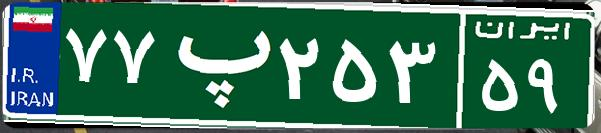2: (273, 28, 330, 110)
3: (385, 28, 445, 110)
5: (330, 28, 385, 110), (475, 38, 525, 113)
7: (57, 26, 110, 107), (110, 28, 158, 105)
9: (525, 38, 570, 115)
پ: (158, 15, 273, 115)
